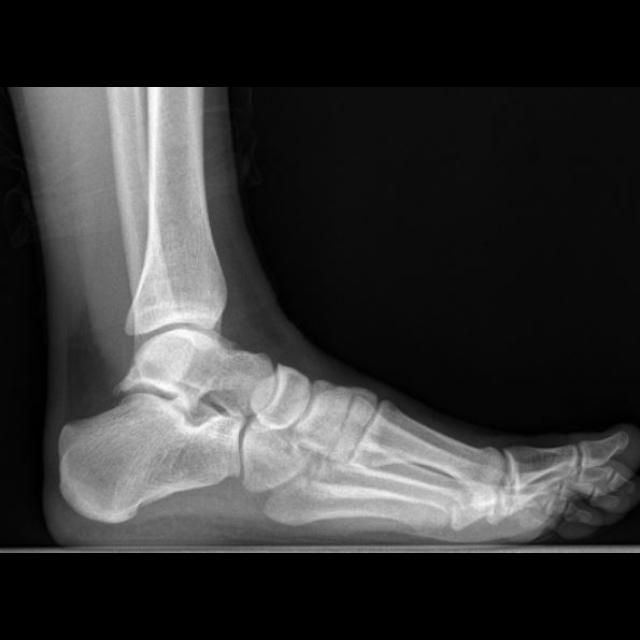a: (59, 330, 272, 523)
b: (260, 366, 311, 430)
c: (356, 401, 506, 494)
